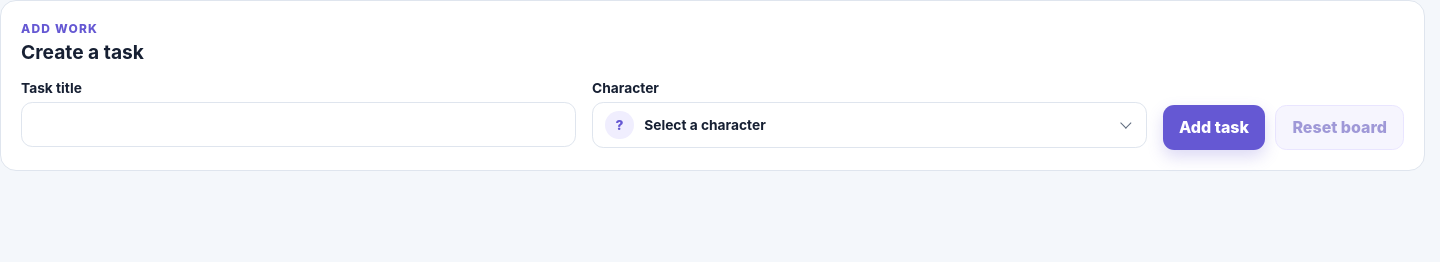
Test case: CreateTaskForm › submits trimmed input and resets the fields
The image size is (1440, 262).
In the field labelled "Task title": (298, 125) left=21, top=102, right=576, bottom=147, type "  Prepare client notes  "
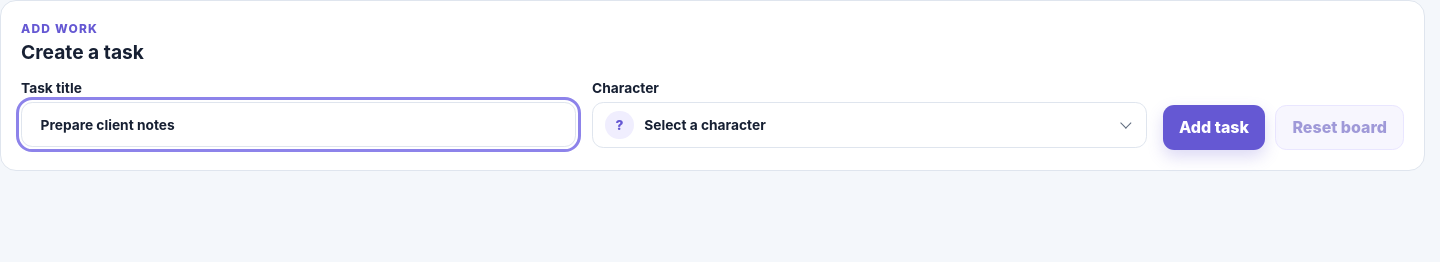
Click the dropdown labelled "character": click(705, 125) left=592, top=102, right=1147, bottom=148
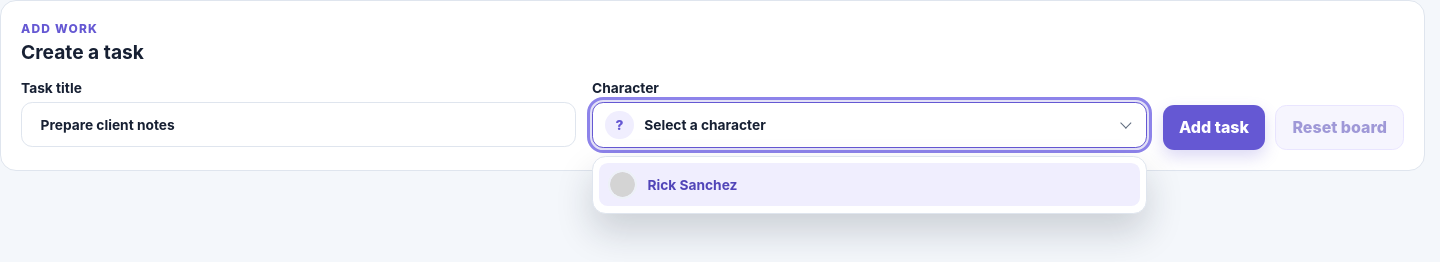
Click the option "Rick Sanchez": click(692, 185) left=599, top=163, right=1140, bottom=206
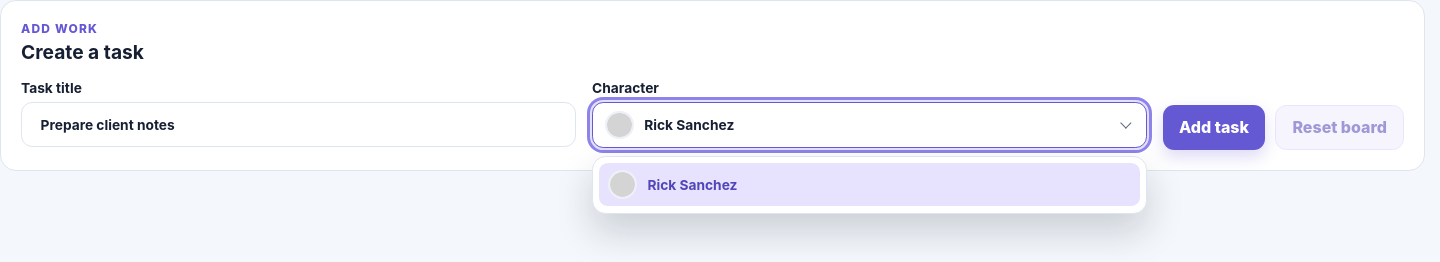
Click the button "Add task": click(1214, 127) left=1163, top=105, right=1265, bottom=150
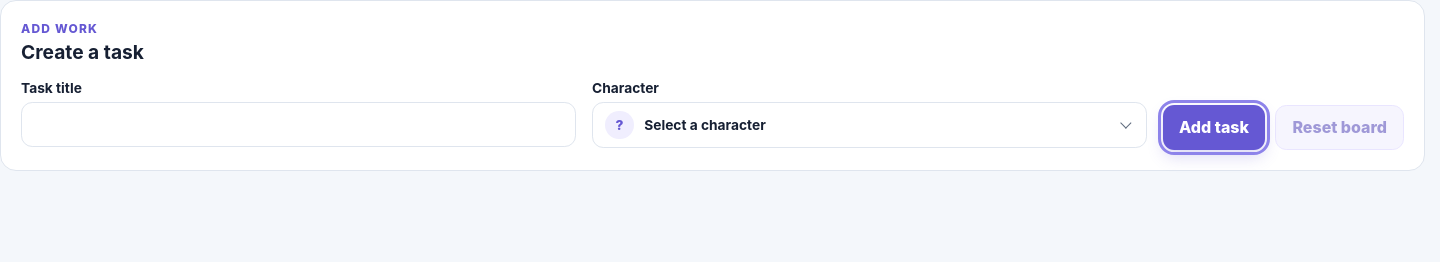
Now the field labelled "Task title" is empty, box left=21, top=102, right=576, bottom=147
Now the dropdown labelled "character" shows "Select a character", box left=592, top=102, right=1147, bottom=148
